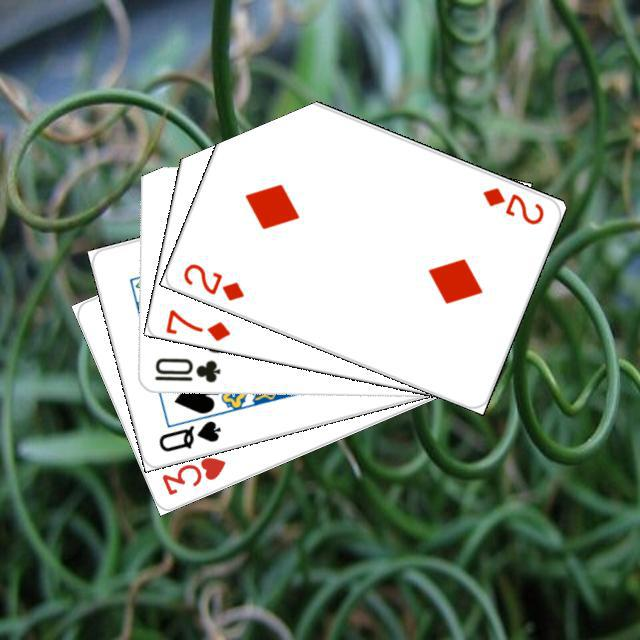10c: (150, 353, 222, 384)
2d: (178, 258, 246, 303), (478, 182, 546, 227)
3h: (156, 452, 228, 497)
7d: (161, 304, 232, 343)
Qs: (154, 415, 222, 454)
